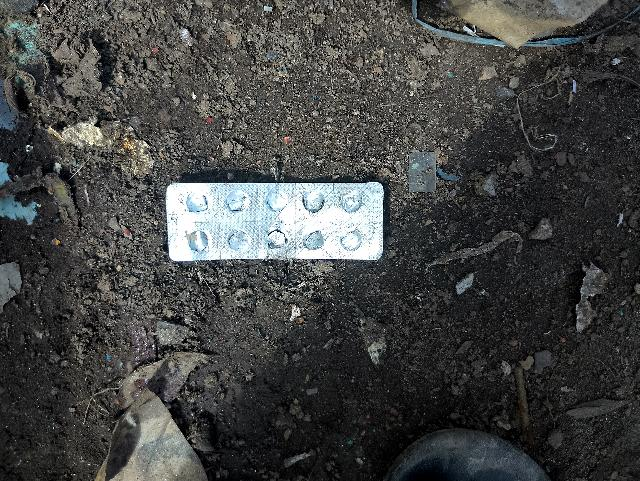medicine: (165, 180, 392, 262)
